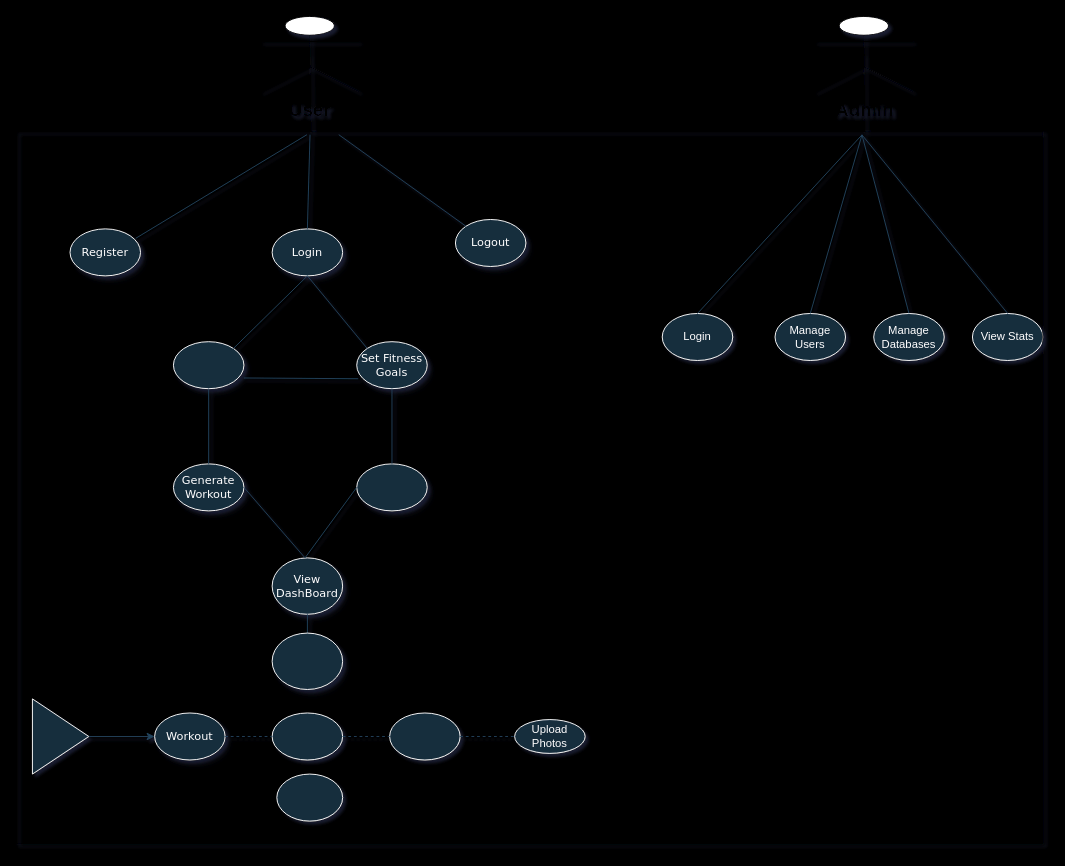
Image size: 1065x866. Some labels were removed from this diagram. Each missing label, with the centre of its shape:
"Calories" belongs at (x=424, y=736).
"Generate Diet" belongs at (x=392, y=488).
"Log" belongs at (x=60, y=736).
"Manage Profile" belongs at (x=209, y=366).
"Track Daily Progress" belongs at (x=307, y=662).
"View Progress Report" belongs at (x=309, y=797).
"Weight" belongs at (x=307, y=736).
